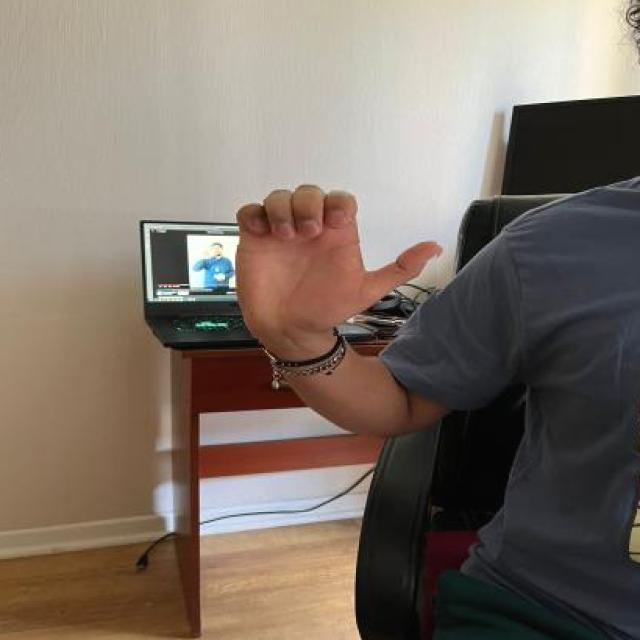E: (229, 177, 439, 338)
